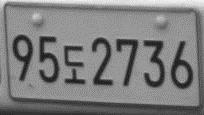2: (90, 36, 114, 85)
3: (142, 39, 165, 87)
5: (38, 35, 59, 83)
6: (170, 39, 194, 90)
7: (115, 37, 139, 86)
9: (11, 33, 33, 82)
도: (63, 45, 87, 84)
